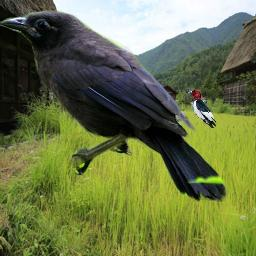Crow: (0, 10, 228, 203)
Woodpecker: (185, 88, 218, 128)
